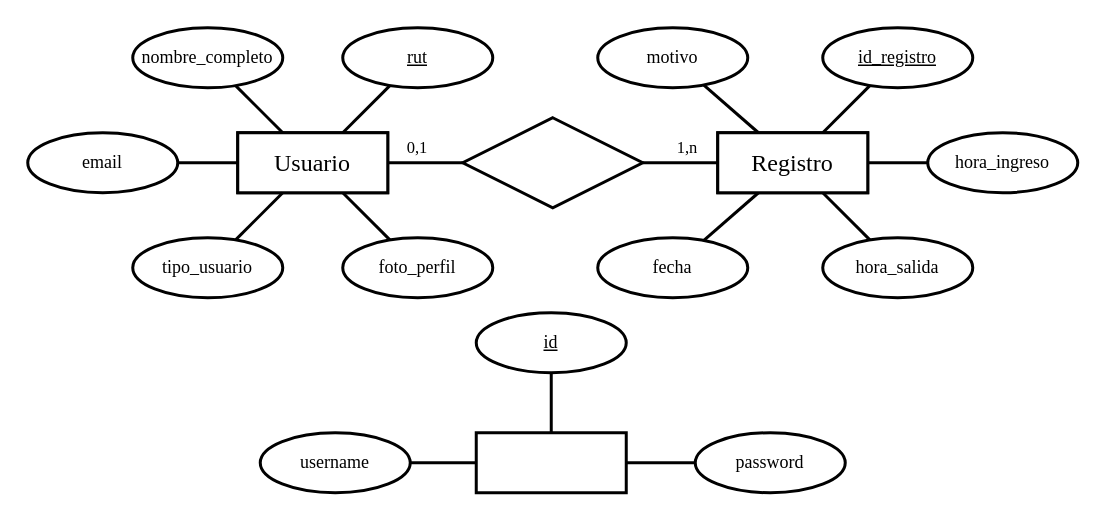
This 1104x519 diagram has some shape labels left out. The shapes that lost their labels are listed below. From the top down, each one's box as (x1, y1, x2, y2) in pixels, then its label:
(460, 116, 644, 208): tiene
(474, 430, 627, 494): Login
